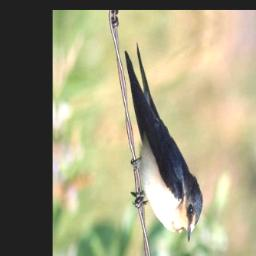Swallow: (116, 41, 208, 246)
